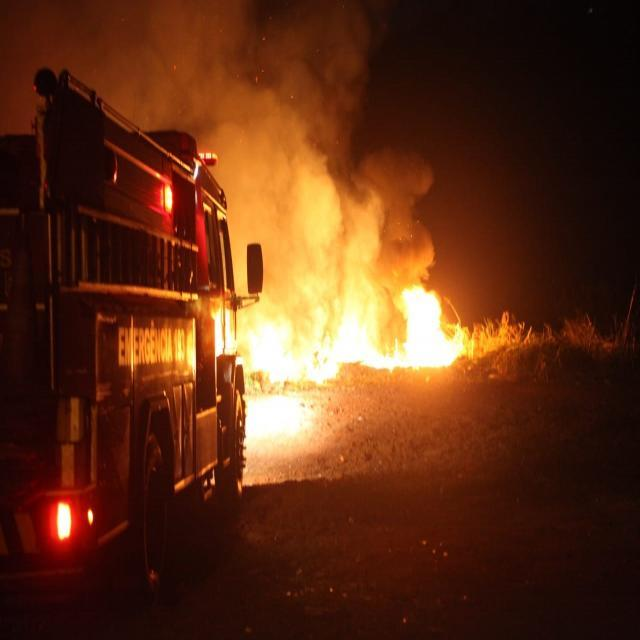Fire: (255, 284, 464, 384)
